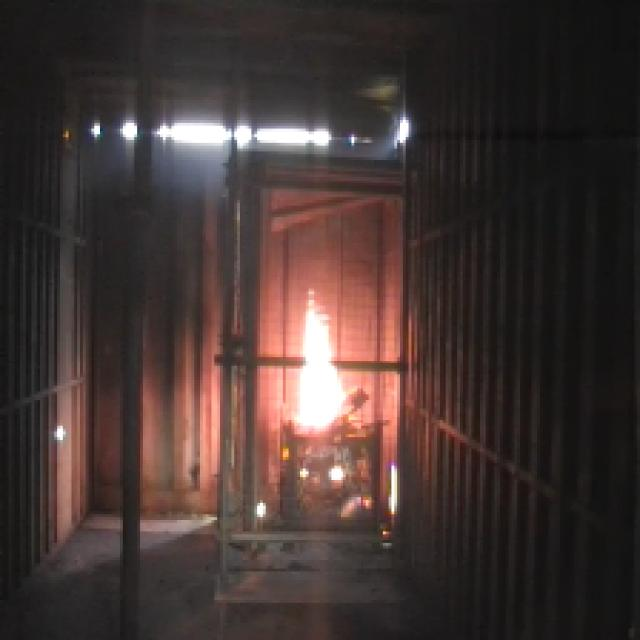fire: (301, 289, 345, 432)
